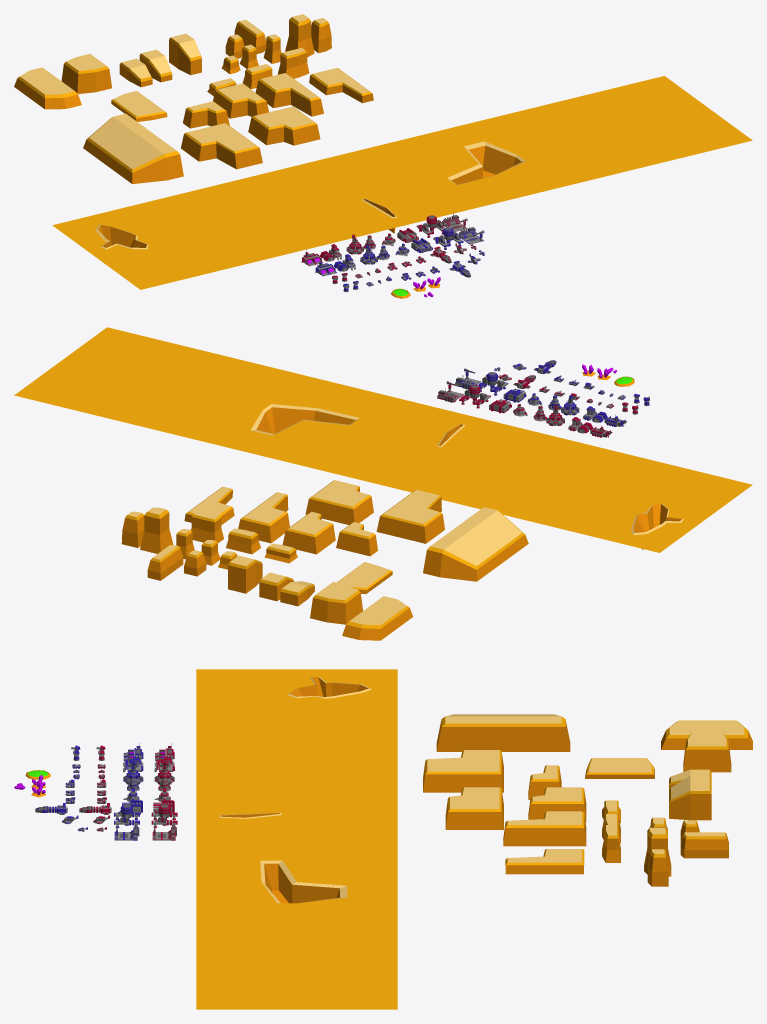
Rendered from RTS_Proto_Art_Kit.fbx.
3 renders of one model, top to bottom at view 1: azimuth 30°, elevation 25°; view 2: azimuth 150°, elevation 25°; view 3: azimuth 270°, elevation 25°, orthographic. The views are drawn at different scales.
Visible parts, largest first — view 1: GroundTiles3, GroundTiles5, GroundTiles4, GroundTiles, GroundRocks19, GroundRocks17, GroundRocks16, GroundRocks4, GroundRocks15, GroundRocks6, GroundRocks14, GroundRocks18 (+9 smaller); view 2: GroundTiles4, GroundTiles3, GroundTiles5, GroundTiles, GroundRocks19, GroundRocks17, GroundRocks16, GroundRocks4, GroundRocks6, GroundRocks15, GroundRocks14, GroundRocks20 (+10 smaller); view 3: GroundTiles3, GroundTiles, GroundTiles4, GroundTiles5, GroundRocks19, GroundRocks17, GroundRocks15, GroundRocks16, GroundRocks6, GroundRocks4, GroundRocks18, GroundRocks11 (+7 smaller).
Part boxes in pixels (<box>): GroundTiles3: <box>512,76,752,177</box>; GroundTiles5: <box>52,188,292,289</box>; GroundTiles4: <box>358,113,599,214</box>; GroundTiles: <box>206,150,446,252</box>; GroundRocks19: <box>83,113,183,183</box>; GroundRocks17: <box>181,123,262,169</box>; GroundRocks16: <box>248,106,320,145</box>; GroundRocks4: <box>14,67,81,109</box>; GroundRocks15: <box>255,73,323,116</box>; GroundRocks6: <box>61,54,111,93</box>; GroundRocks14: <box>213,83,268,118</box>; GroundRocks18: <box>309,68,373,103</box>; GroundTiles4: <box>175,366,429,473</box>; GroundTiles3: <box>14,327,267,434</box>; GroundTiles5: <box>500,445,752,552</box>; GroundTiles: <box>337,406,590,511</box>; GroundRocks19: <box>423,507,528,581</box>; GroundRocks17: <box>376,489,444,543</box>; GroundRocks16: <box>305,480,373,524</box>; GroundRocks4: <box>342,596,412,640</box>; GroundRocks6: <box>310,582,362,624</box>; GroundRocks15: <box>238,492,289,543</box>; GroundRocks14: <box>282,511,335,554</box>; GroundRocks20: <box>140,507,173,553</box>; GroundTiles3: <box>196,924,397,1009</box>; GroundTiles: <box>196,754,397,839</box>; GroundTiles4: <box>196,839,397,924</box>; GroundTiles5: <box>196,669,397,754</box>; GroundRocks19: <box>436,714,570,751</box>; GroundRocks17: <box>423,750,503,792</box>; GroundRocks15: <box>503,811,586,846</box>; GroundRocks16: <box>445,787,503,829</box>; GroundRocks6: <box>683,731,731,772</box>; GroundRocks4: <box>661,720,752,749</box>; GroundRocks18: <box>505,849,584,874</box>; GroundRocks11: <box>669,782,711,820</box>.
Bounding box in the file's own units: 12800 × 1136 × 11737.
